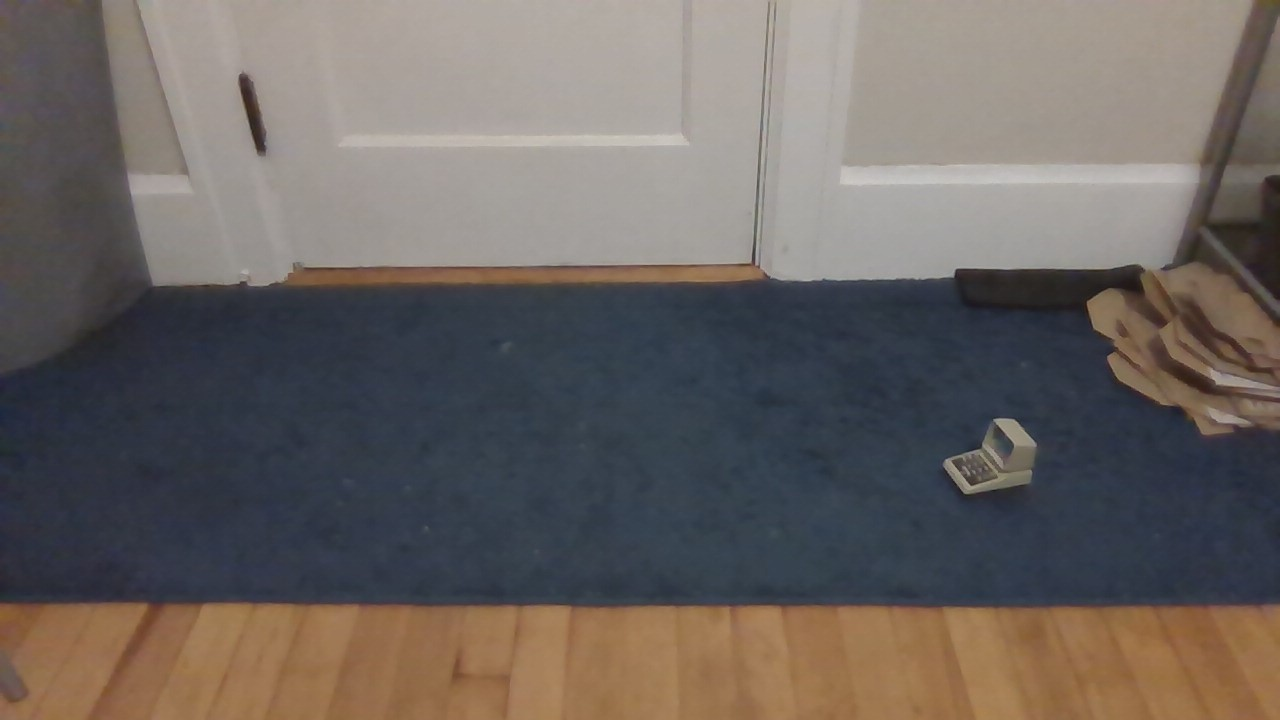Toy: (935, 403, 1052, 518)
